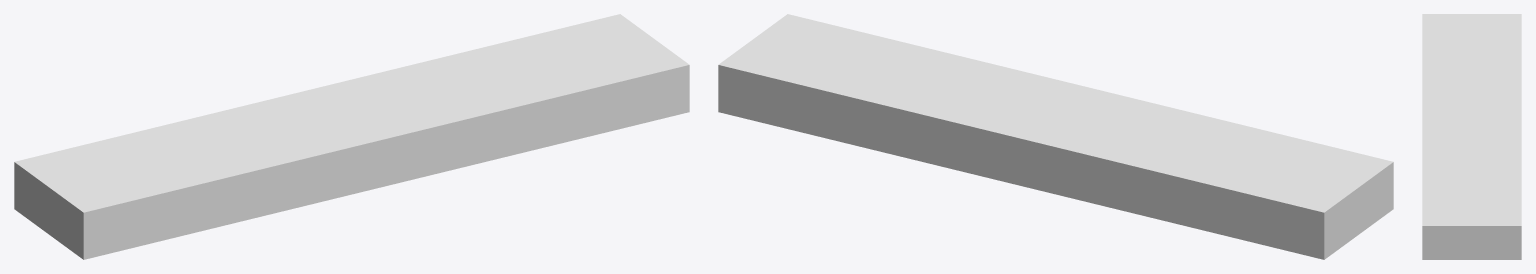
Rendered from botão09.fbx.
3 views of the same model, side by side, from view 1: azimuth 30°, elevation 25°; view 2: azimuth 150°, elevation 25°; view 3: azimuth 270°, elevation 25° (orthographic). The views are drawn at different scales.
Visible parts, largest first — view 1: Cube.008; view 2: Cube.008; view 3: Cube.008.
Boxes of the visible parts, x1,y1,x2,y2 form: Cube.008: [14, 14, 689, 259]; Cube.008: [718, 14, 1393, 259]; Cube.008: [1422, 14, 1521, 259].
Bounding box in the file's own units: 1007 × 75.09 × 200.
Materials: 1 (1 with a texture image).
